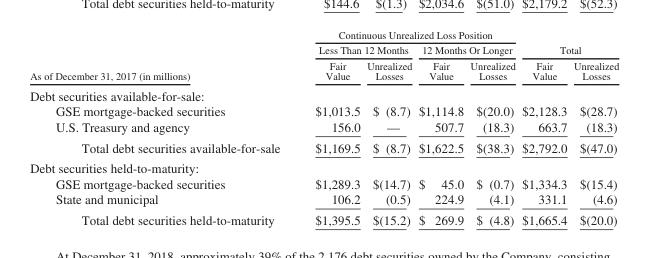table: (29, 28, 618, 226)
table column: (29, 28, 296, 226), (296, 28, 362, 226), (362, 28, 414, 226), (414, 28, 466, 226), (466, 28, 518, 226), (518, 28, 569, 226), (569, 28, 618, 226)
table column header: (29, 28, 618, 84)
table projected row header: (29, 84, 618, 103), (29, 157, 618, 175)
table row: (29, 57, 618, 84), (29, 136, 618, 157), (29, 84, 618, 103), (29, 118, 618, 136), (29, 157, 618, 175), (29, 191, 618, 209), (29, 209, 618, 226), (29, 175, 618, 191), (29, 42, 618, 57), (29, 103, 618, 118), (29, 28, 618, 42)
table spanning cell: (29, 28, 296, 84), (296, 28, 518, 42), (518, 28, 618, 57), (296, 42, 414, 57), (414, 42, 518, 57)
